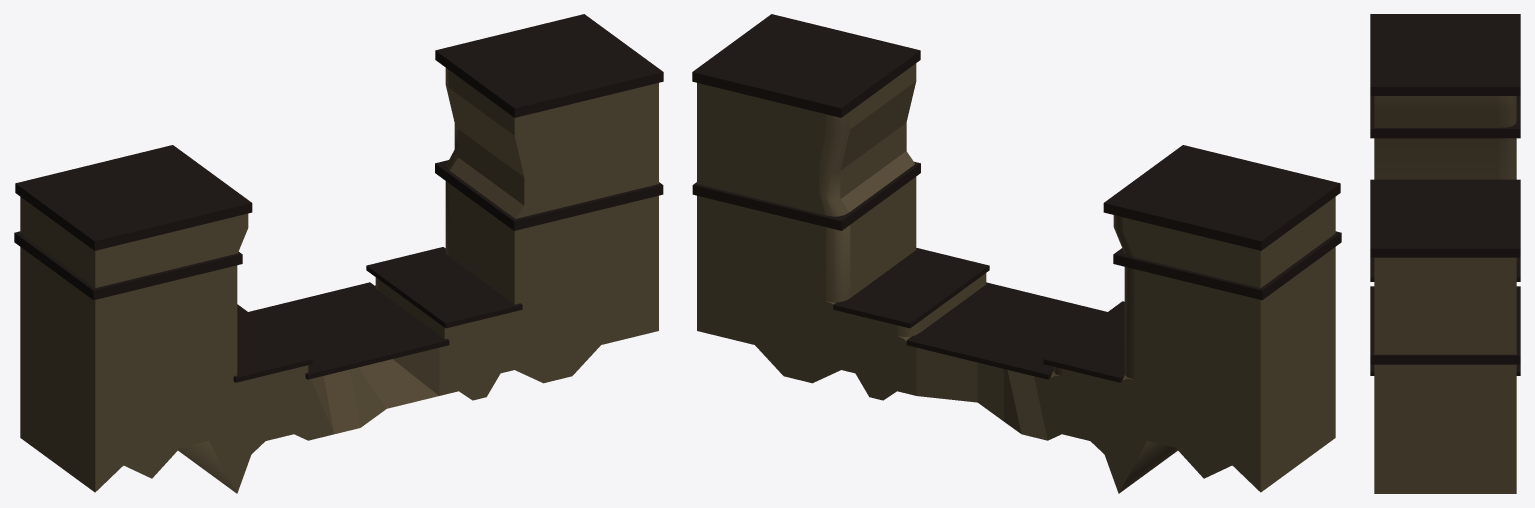
The model's file is map1.FBX.
The picture shows the model from 3 angles, left to right: view 1: azimuth 30°, elevation 25°; view 2: azimuth 150°, elevation 25°; view 3: azimuth 270°, elevation 25°; orthographic projection. The views are drawn at different scales.
Visible parts, largest first — view 1: Object001, map1; view 2: Object001, map1; view 3: Object001, map1.
Part boxes in pixels (x1=…): Object001: x1=20, y1=68, x2=658, y2=493; map1: x1=14, y1=14, x2=663, y2=382; Object001: x1=697, y1=63, x2=1335, y2=493; map1: x1=692, y1=14, x2=1341, y2=382; Object001: x1=1374, y1=96, x2=1516, y2=493; map1: x1=1370, y1=14, x2=1520, y2=375.
Bounding box in the file's own units: 191 × 45.96 × 102.
